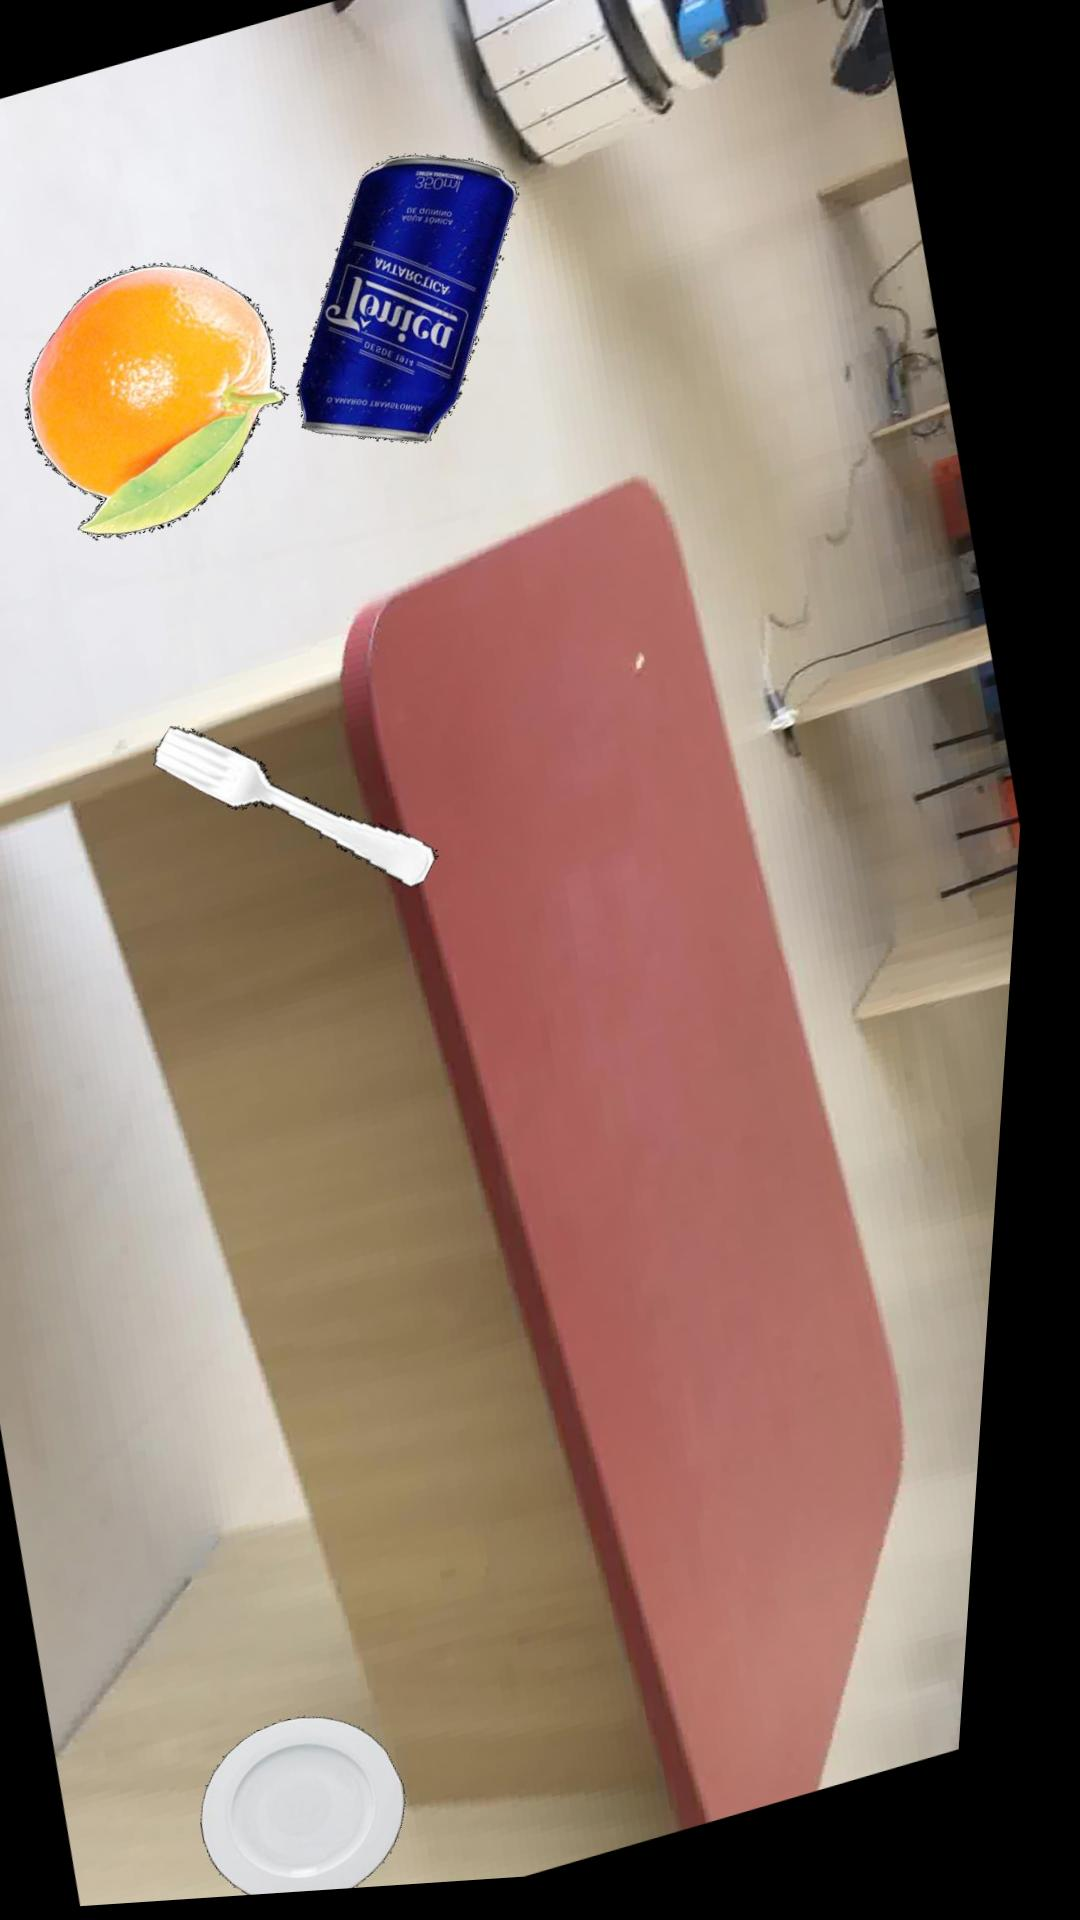fork: (162, 727, 448, 893)
orange: (28, 265, 291, 538)
plate: (224, 1721, 429, 1900)
tonic: (299, 158, 517, 446)
